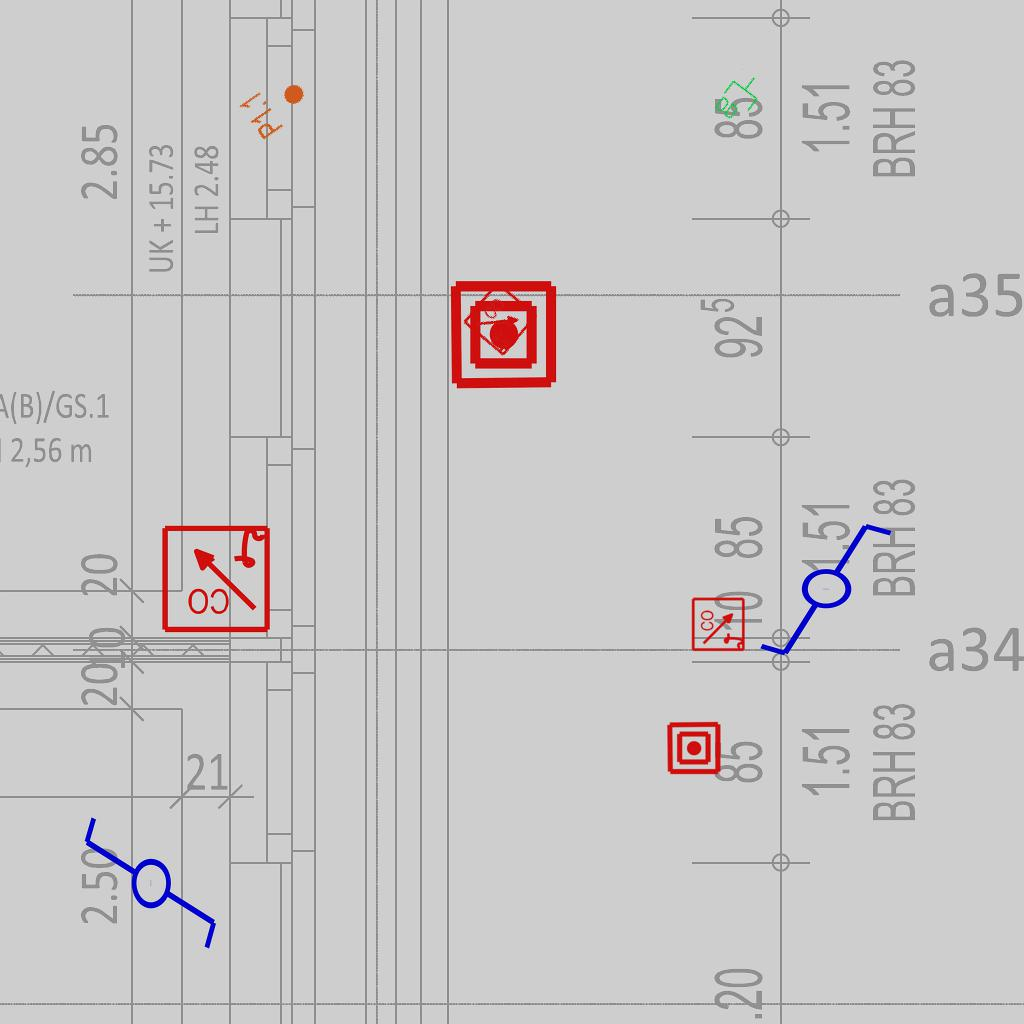Datenanschluss_zweifach: (710, 66, 769, 128)
Downlight_LED_Einbauleuchten_Flur: (236, 67, 316, 143)
NAM-Nichtautomatischer_Melder: (447, 278, 560, 391), (666, 720, 722, 776)
ROA_Rauchmelder_optisch_mit_Signalgeber_(Sockelsirene): (159, 521, 272, 634), (461, 279, 541, 359), (691, 596, 747, 652)
Wechselschalter: (77, 813, 221, 970), (756, 519, 913, 663)
